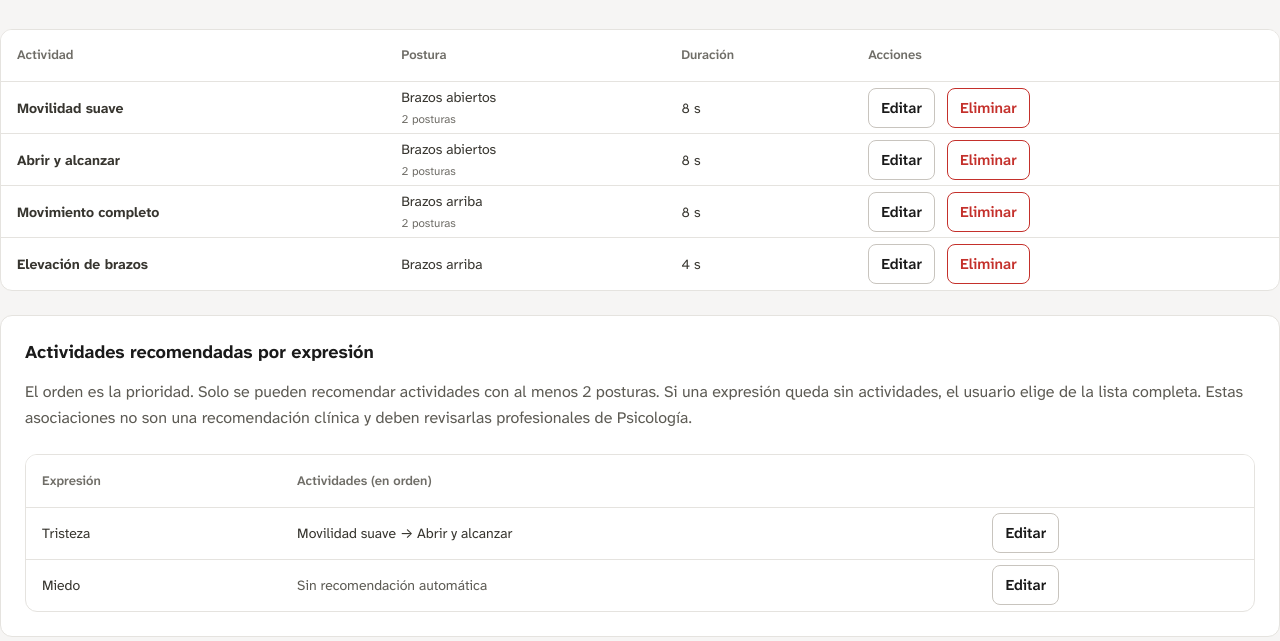
Test: administración de recomendaciones › reordena, quita y añade actividades y guarda en el orden elegido
Click the button named "Editar recomendaciones de Tristeza" at (1026, 533), box [992, 513, 1059, 553]
(page scrolled)
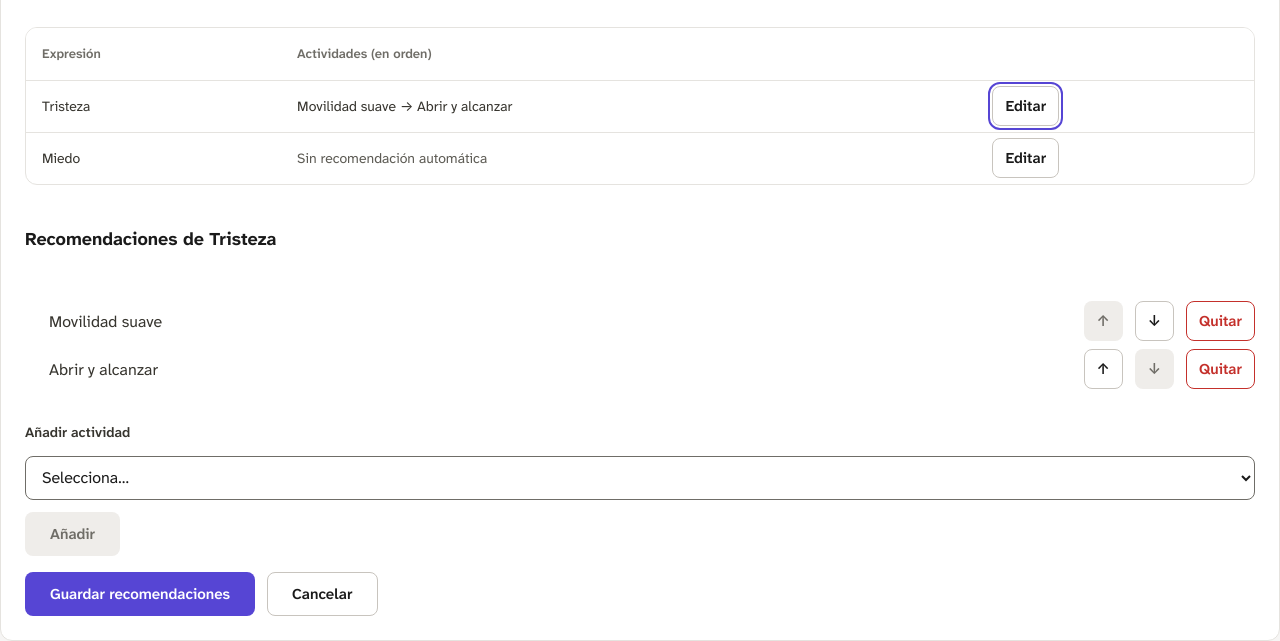
Click the button named "Bajar Movilidad suave" at (1154, 322), box [1135, 302, 1174, 342]
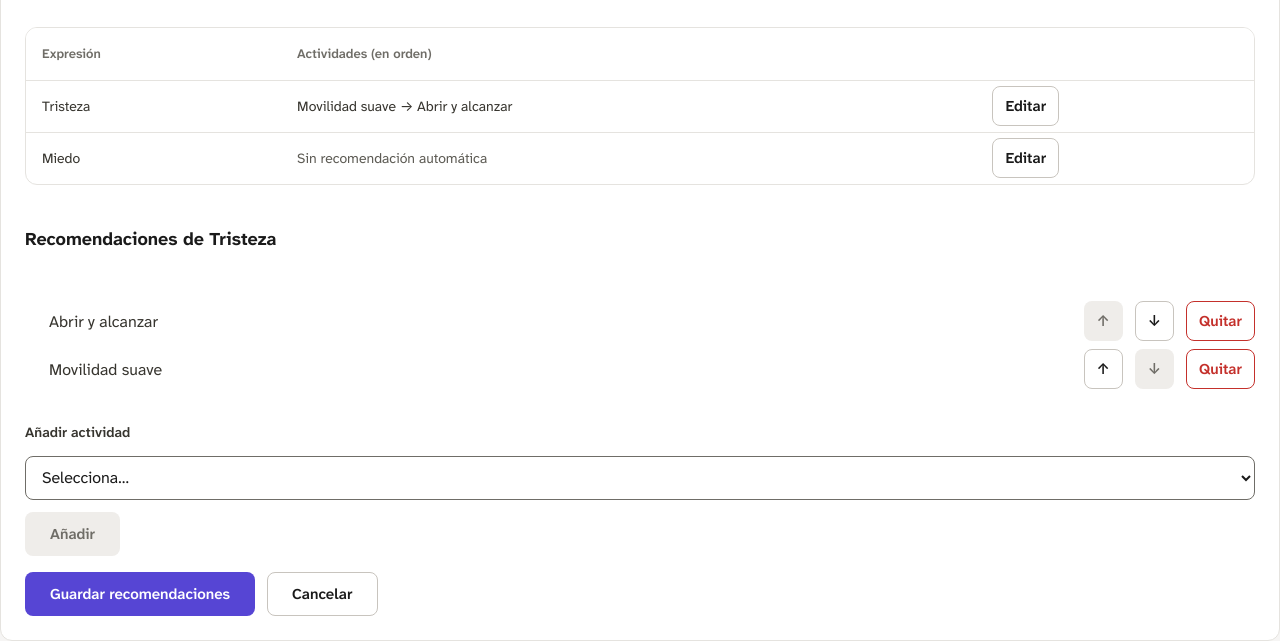
Click the button named "Quitar Movilidad suave" at (1220, 370), box [1186, 350, 1255, 390]
(page scrolled)
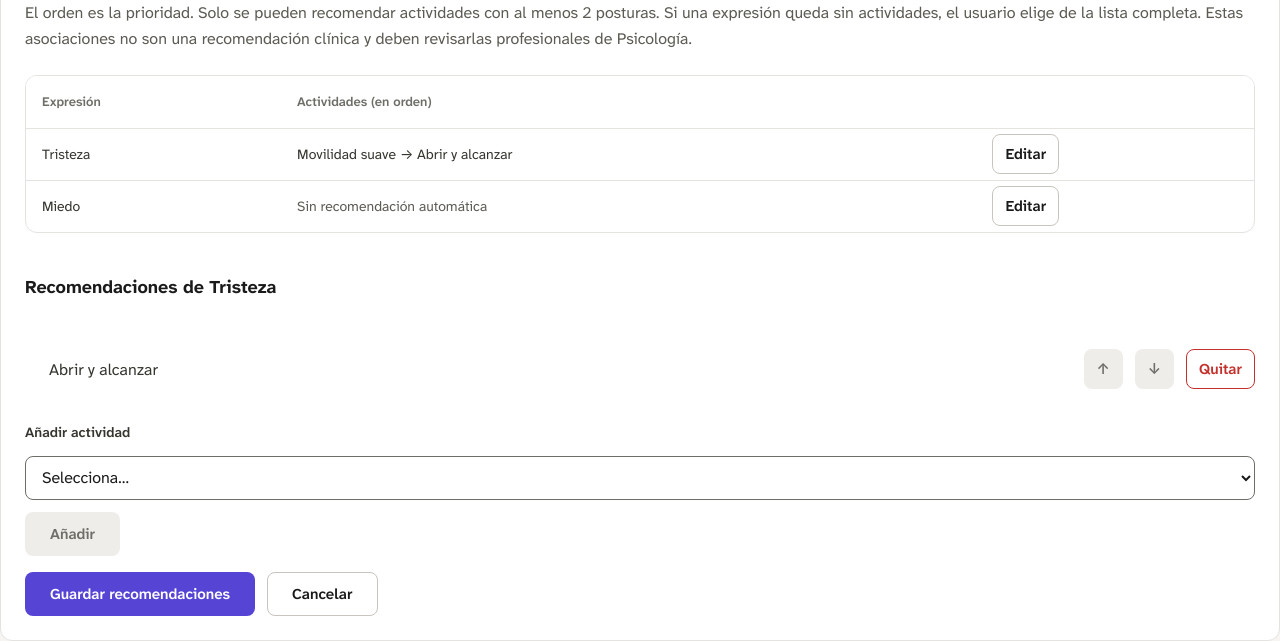
Select "Movimiento completo" in the dropdown labelled "Añadir actividad" at (640, 478), box [25, 456, 1255, 500]
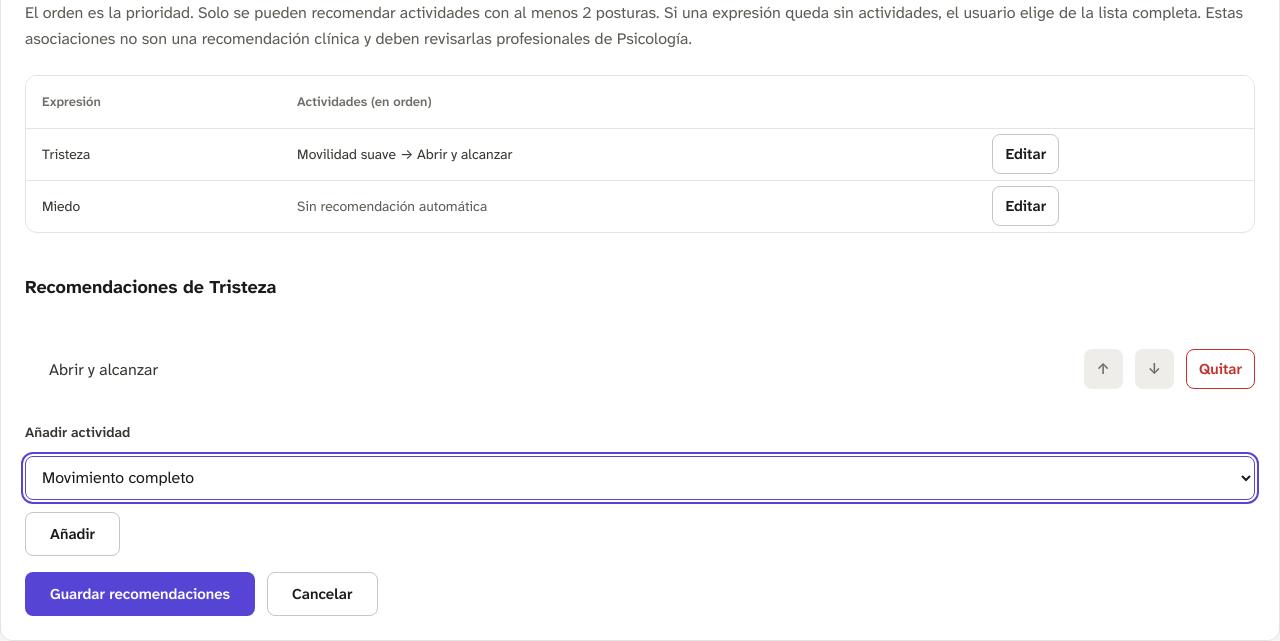
Click the button "Añadir" at (73, 534), box [25, 512, 120, 556]
(page scrolled)
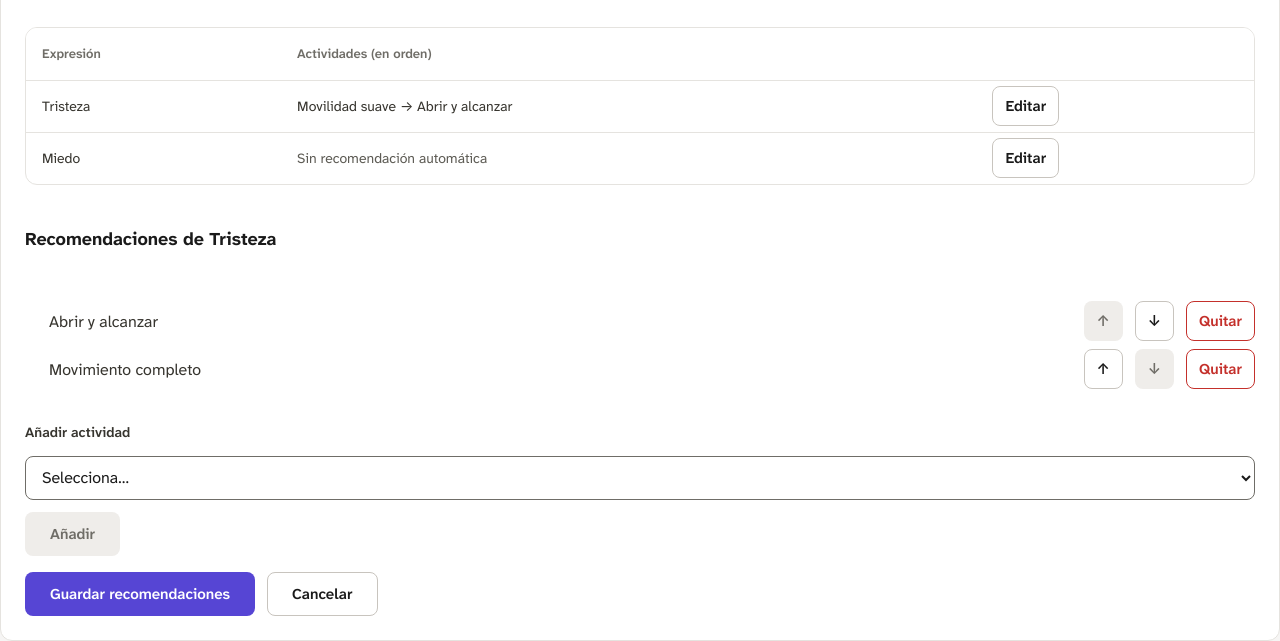
Click the button "Guardar recomendaciones" at (140, 594), box [25, 572, 255, 616]
(page scrolled)
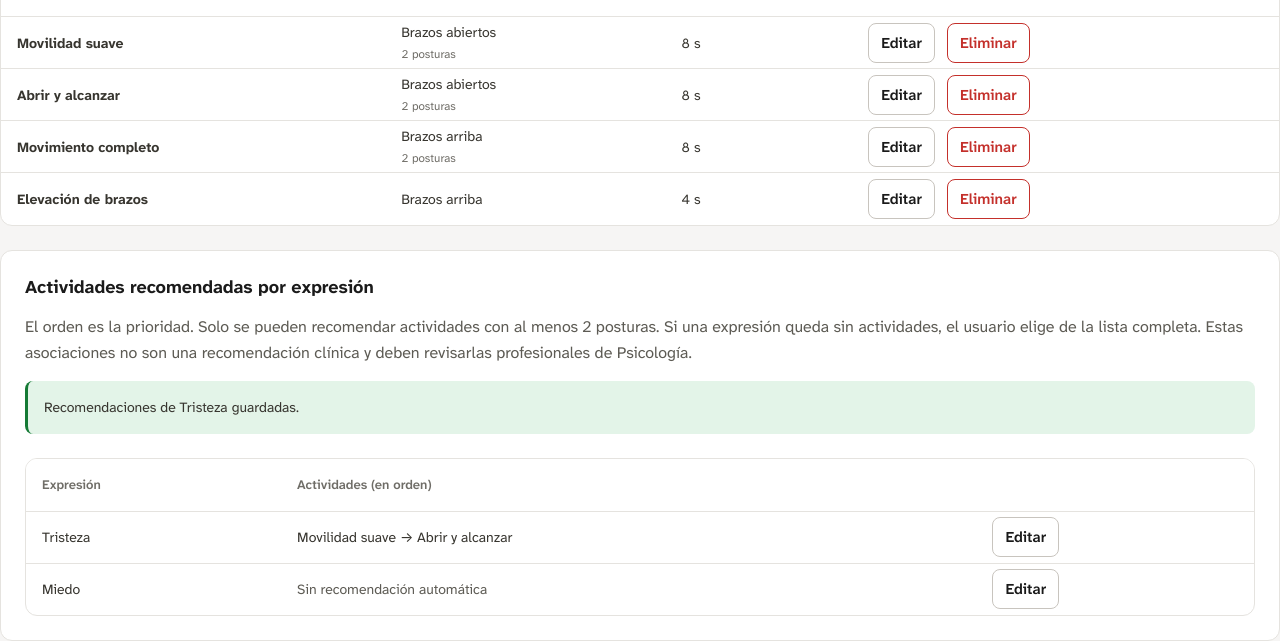
expect the text "Recomendaciones de Tristeza guardadas." is shown: met, box [25, 381, 1255, 434]
